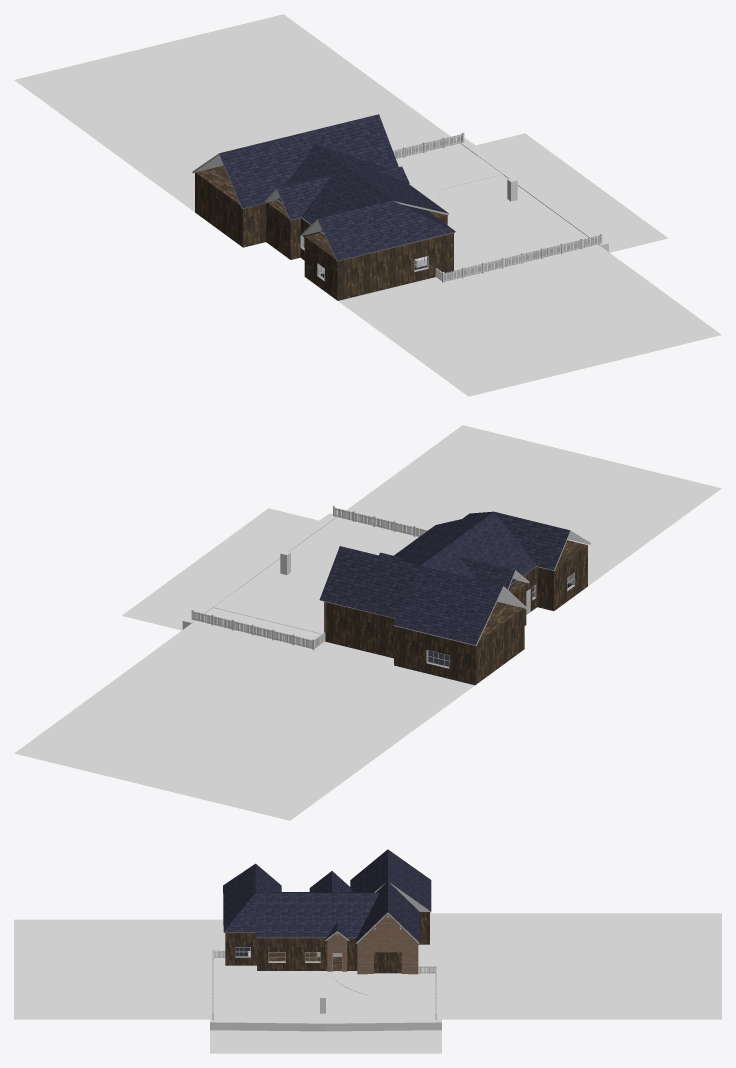
The model's file is DEMO3 - GGJ_2024_scene 2.fbx.
3 views of the same model, one above another, from view 1: azimuth 30°, elevation 25°; view 2: azimuth 150°, elevation 25°; view 3: azimuth 270°, elevation 25° (orthographic). The views are drawn at different scales.
Visible parts, largest first — view 1: Grass, Exterior Roof, Exterior Wall, Exterior Stage, Exterior Fence, Sidewalk; view 2: Grass, Exterior Roof, Exterior Wall, Exterior Stage, Sidewalk, Exterior Fence; view 3: Grass, Exterior Roof, Exterior Stage, Exterior Wall, Sidewalk, Interior Floor, Exterior Fence.
Boxes of the visible parts, box(x1,y1,x2,y2) form: Grass: box(14, 14, 721, 396); Exterior Roof: box(192, 114, 455, 261); Exterior Wall: box(195, 165, 453, 300); Exterior Stage: box(460, 133, 668, 252); Exterior Fence: box(393, 132, 602, 282); Sidewalk: box(405, 156, 502, 203); Grass: box(14, 425, 721, 820); Exterior Roof: box(319, 511, 590, 645); Exterior Wall: box(324, 540, 587, 685); Exterior Stage: box(122, 508, 336, 630); Sidewalk: box(213, 589, 323, 633); Exterior Fence: box(191, 505, 427, 650); Grass: box(14, 913, 721, 1019); Exterior Roof: box(223, 849, 431, 943); Exterior Stage: box(210, 1019, 441, 1053); Exterior Wall: box(225, 912, 429, 974); Sidewalk: box(332, 971, 407, 1018); Interior Floor: box(235, 947, 341, 970); Exterior Fence: box(212, 949, 436, 1020).
Bounding box in the file's own units: 3156 × 777 × 7056.
